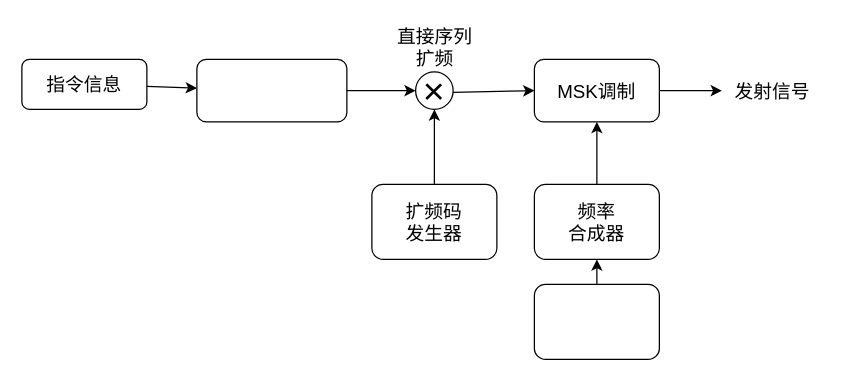
Some shapes in this 844 by 381 pixel diagram are drawn without their labels. The shapes that lost their labels are listed below. From the top down, each one's box as (x1, y1, x2, y2) in pixels, then its label:
(196, 58, 347, 122): 纠错编码 与成帧
(533, 283, 659, 359): 跳频码 发生器
